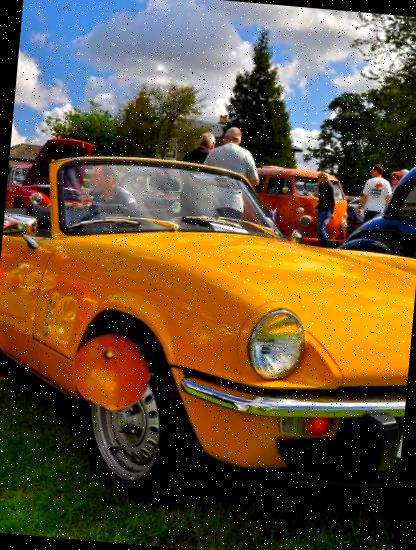Clementine: (68, 328, 158, 417)
